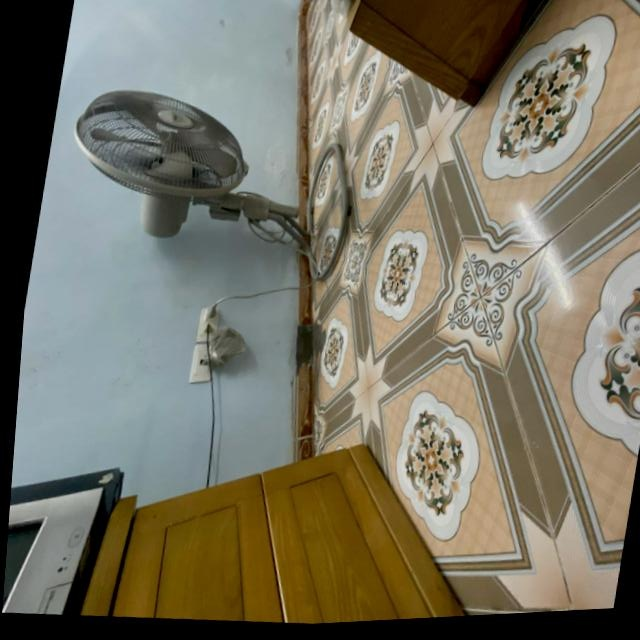outlet: (189, 342, 217, 386), (195, 307, 220, 345)
